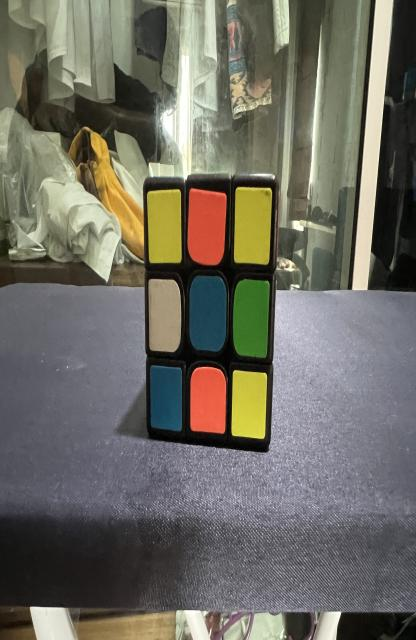Blue: (189, 275, 227, 352), (150, 365, 182, 432)
Green: (233, 278, 270, 358)
Orange: (188, 188, 227, 265), (190, 367, 227, 433)
White: (149, 278, 181, 352)
Yellow: (234, 187, 272, 265), (147, 188, 182, 263), (232, 370, 267, 438)
